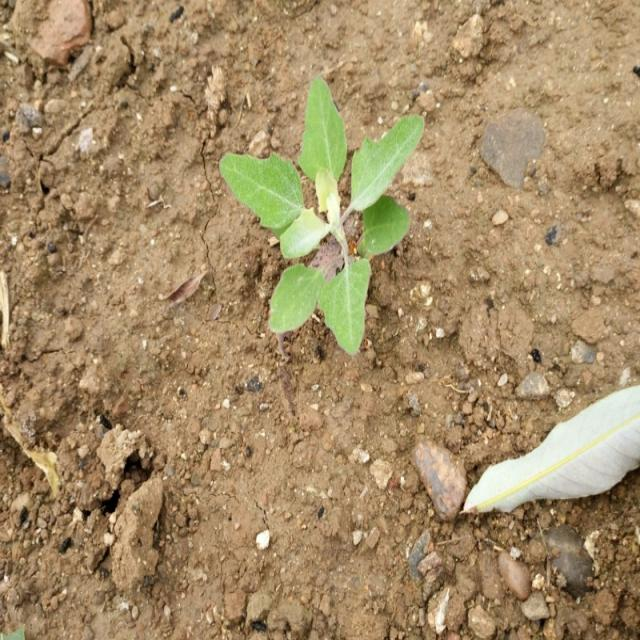ca: (221, 79, 424, 357)
